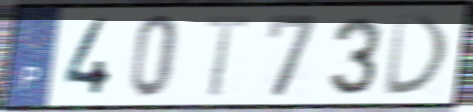0: (130, 12, 185, 101)
3: (327, 14, 384, 97)
4: (60, 15, 114, 100)
7: (264, 11, 321, 100)
D: (382, 12, 454, 98)
T: (203, 13, 252, 100)
